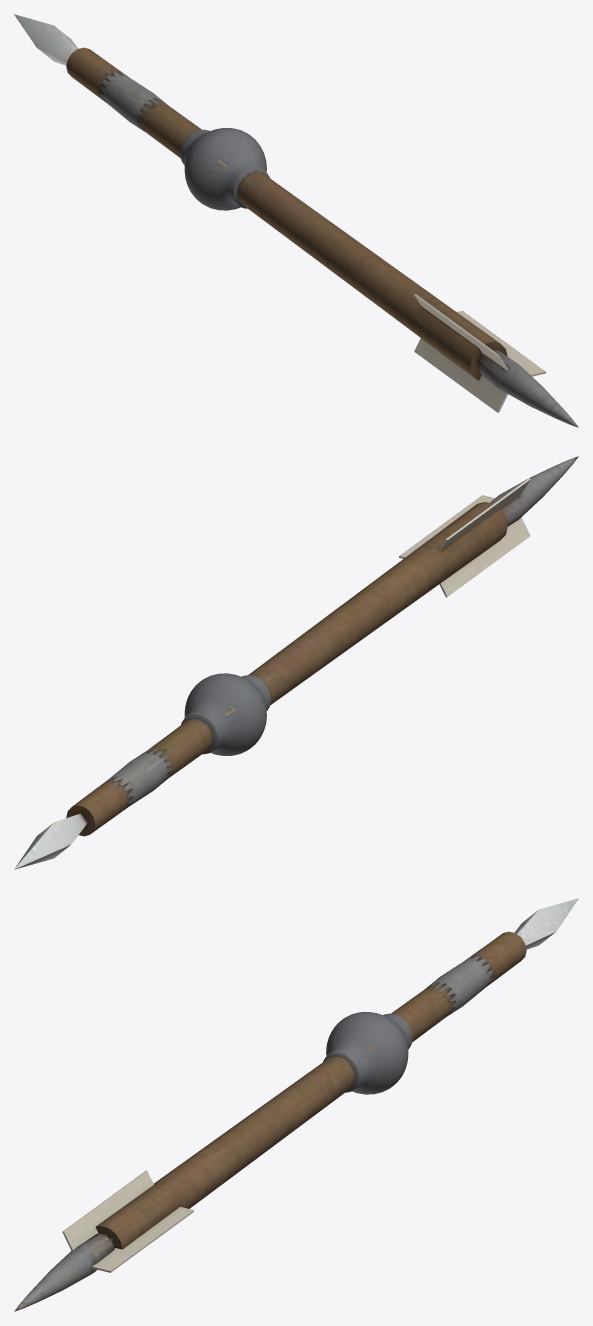
File: plumbata.glb
The picture shows the model from 3 angles, top to bottom: view 1: azimuth 30°, elevation 25°; view 2: azimuth 150°, elevation 25°; view 3: azimuth 330°, elevation 25°; orthographic projection.
Parts seen in each view (by area): view 1: plumbata; view 2: plumbata; view 3: plumbata.
Part boxes in pixels (x1,y1,x2,y2): plumbata: (14,14,578,427); plumbata: (14,456,578,869); plumbata: (14,898,578,1311).
Bounding box in the file's own units: 0.0504 × 0.0504 × 0.6779.
1 material, 1 textured.
